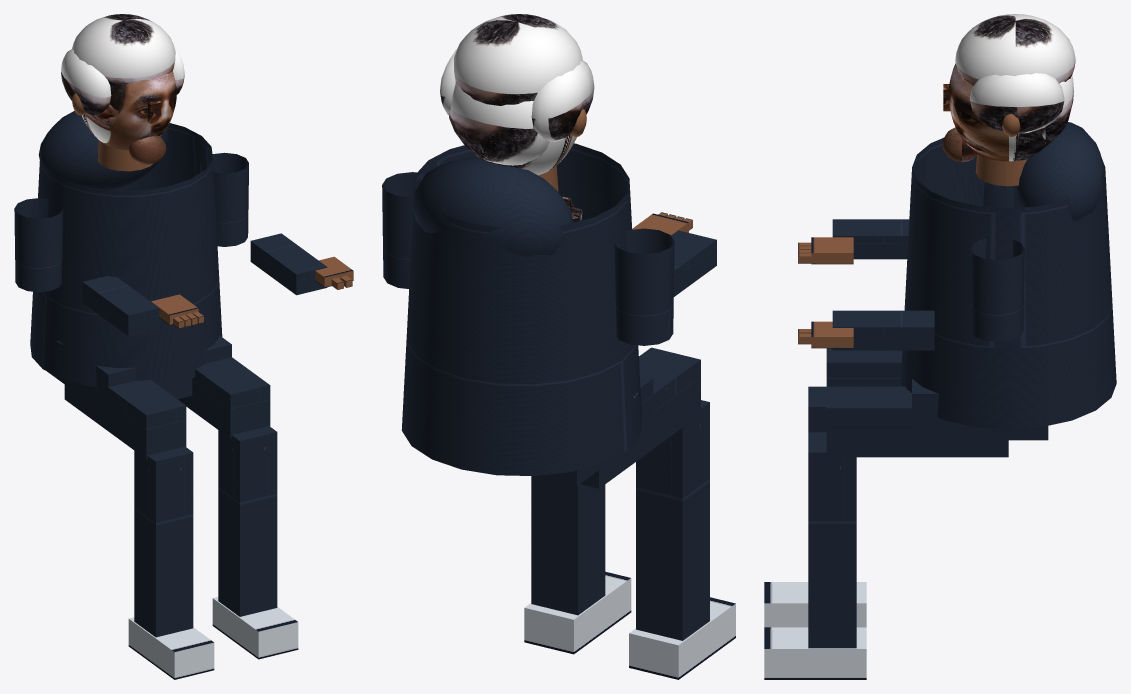
Rendered from sisay-developer.glb.
The picture shows the model from 3 angles, left to right: view 1: azimuth 30°, elevation 25°; view 2: azimuth 150°, elevation 25°; view 3: azimuth 270°, elevation 25°; orthographic projection. The views are drawn at different scales.
Visible parts, largest first — view 1: SisayLowerBody, SisayTorso, SisayHead, SisayLeftArm, SisayRightArm, SisayLeftHand, SisayRightHand; view 2: SisayTorso, SisayLowerBody, SisayHead, SisayLeftArm, SisayRightArm, SisayLeftHand; view 3: SisayTorso, SisayLowerBody, SisayHead, SisayRightArm, SisayLeftArm, SisayLeftHand, SisayRightHand.
Boxes of the visible parts, x1,y1,x2,y2 form: SisayLowerBody: (47, 336, 298, 679); SisayTorso: (30, 111, 222, 386); SisayHead: (61, 14, 184, 171); SisayLeftArm: (14, 198, 159, 336); SisayRightArm: (200, 152, 327, 295); SisayLeftHand: (151, 294, 203, 328); SisayRightHand: (315, 256, 353, 289); SisayTorso: (401, 143, 641, 475); SisayLowerBody: (524, 347, 735, 679); SisayHead: (440, 14, 594, 191); SisayLeftArm: (614, 228, 716, 345); SisayRightArm: (382, 172, 416, 288); SisayLeftHand: (632, 212, 692, 235); SisayTorso: (900, 122, 1116, 429); SisayLowerBody: (764, 348, 1048, 679); SisayHead: (942, 14, 1075, 186); SisayRightArm: (832, 238, 1024, 350); SisayLeftArm: (832, 182, 1014, 259); SisayLeftHand: (798, 237, 853, 264); SisayRightHand: (798, 321, 853, 348).
Size of the model in its own units: 0.5705 by 1.21 by 0.62.
1 material, 1 textured.
